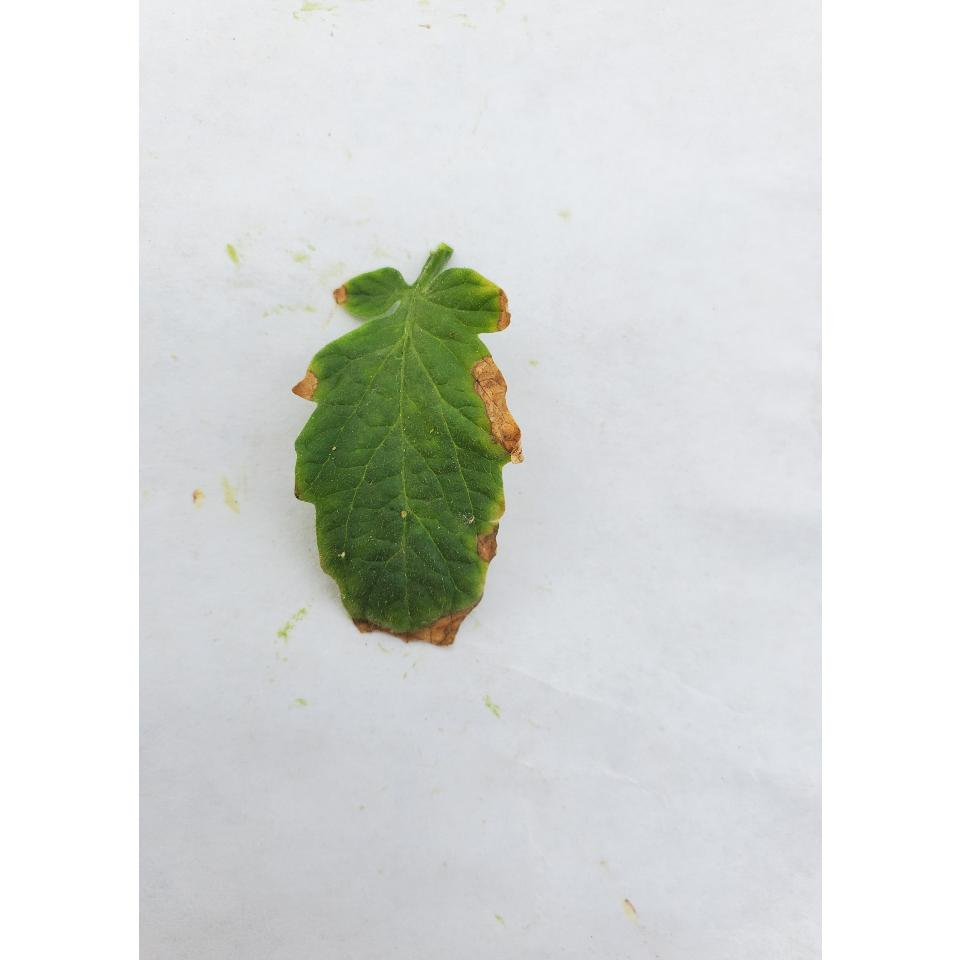tomato_bacterial_blight: (283, 222, 559, 652)
